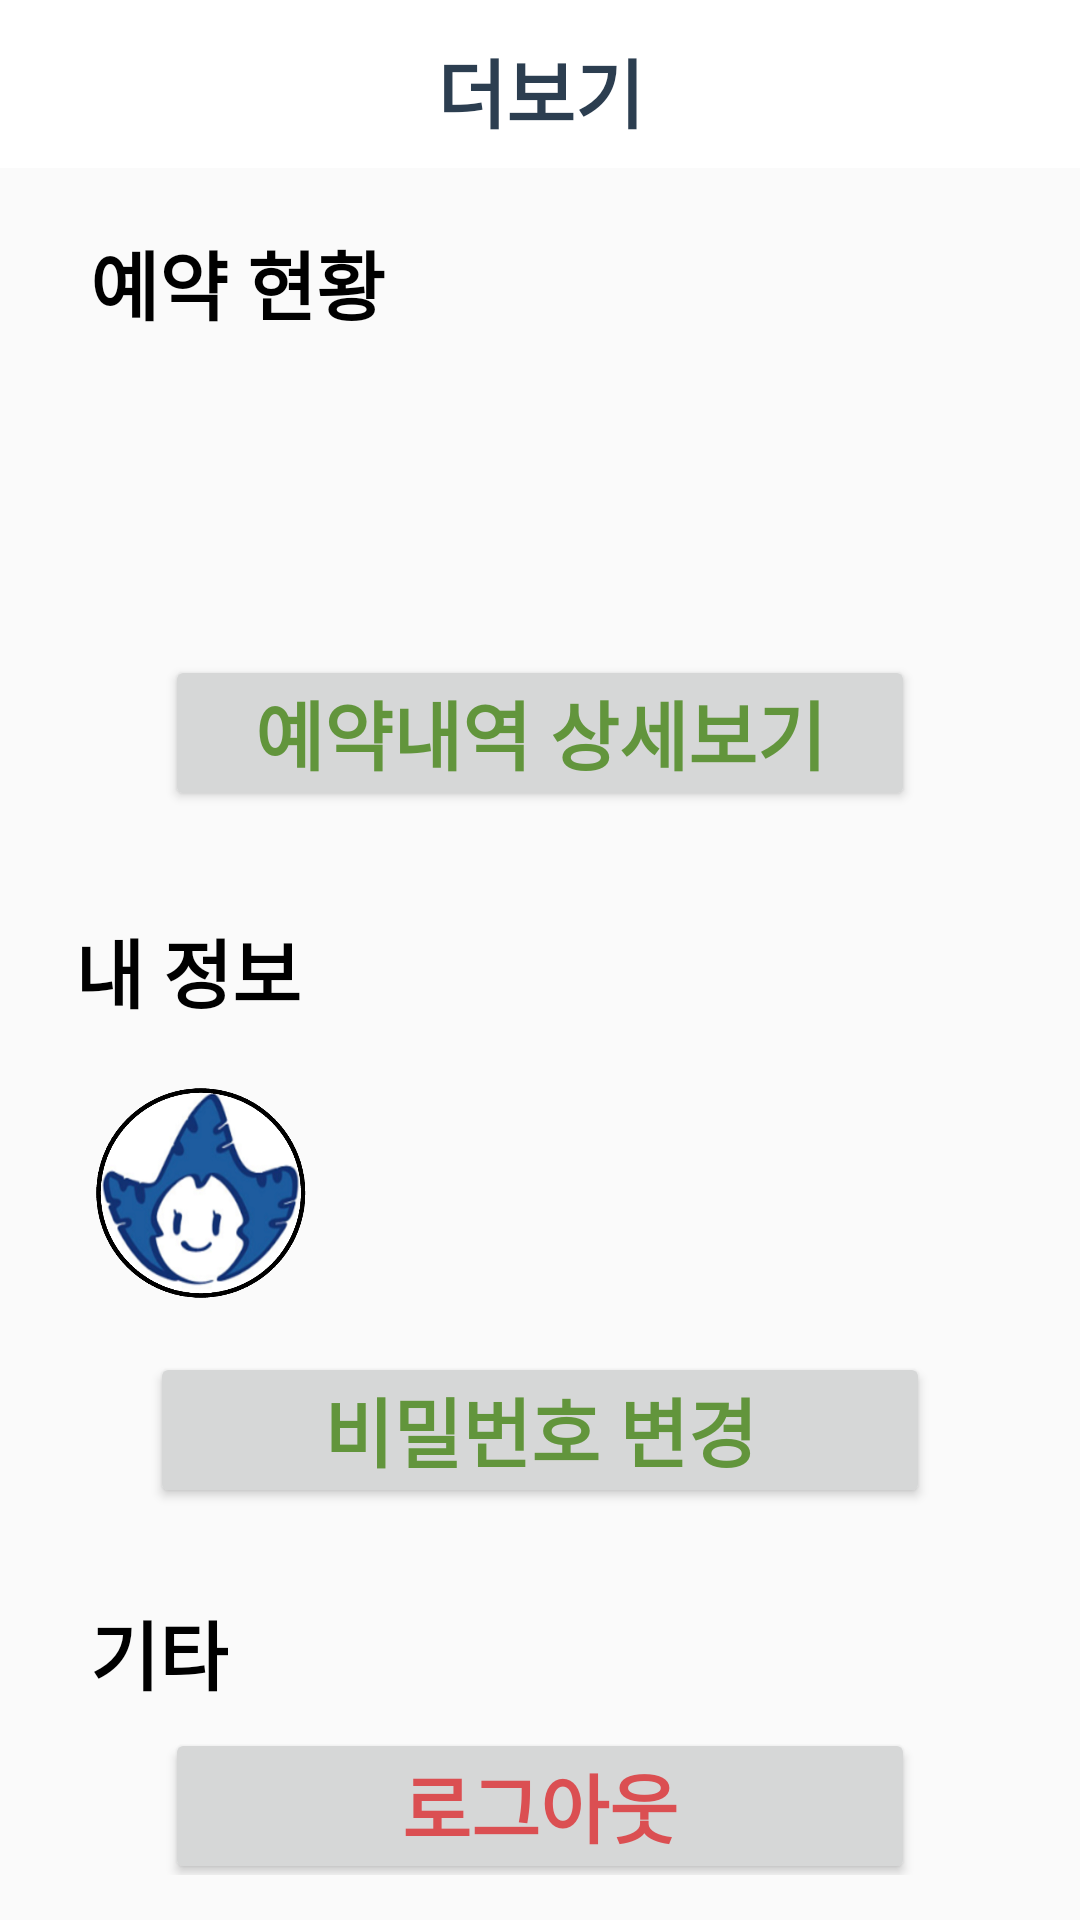

Named icons in this screenshot (1080 × 1920) and their centers, [x,y]:
profile: [201,1193]
